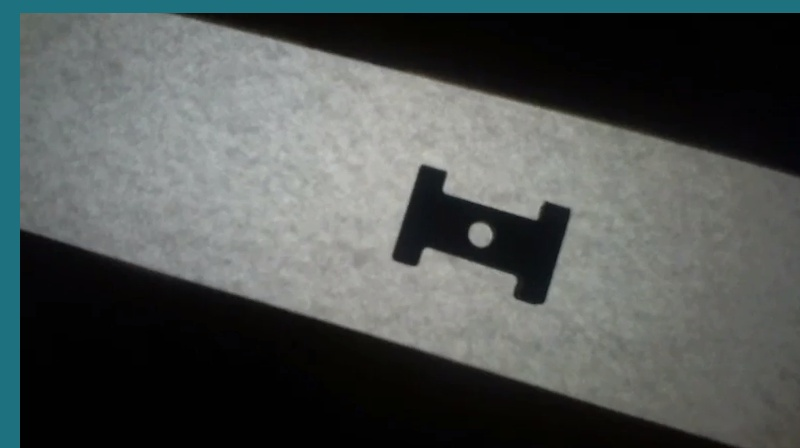O002: (384, 161, 570, 306)
